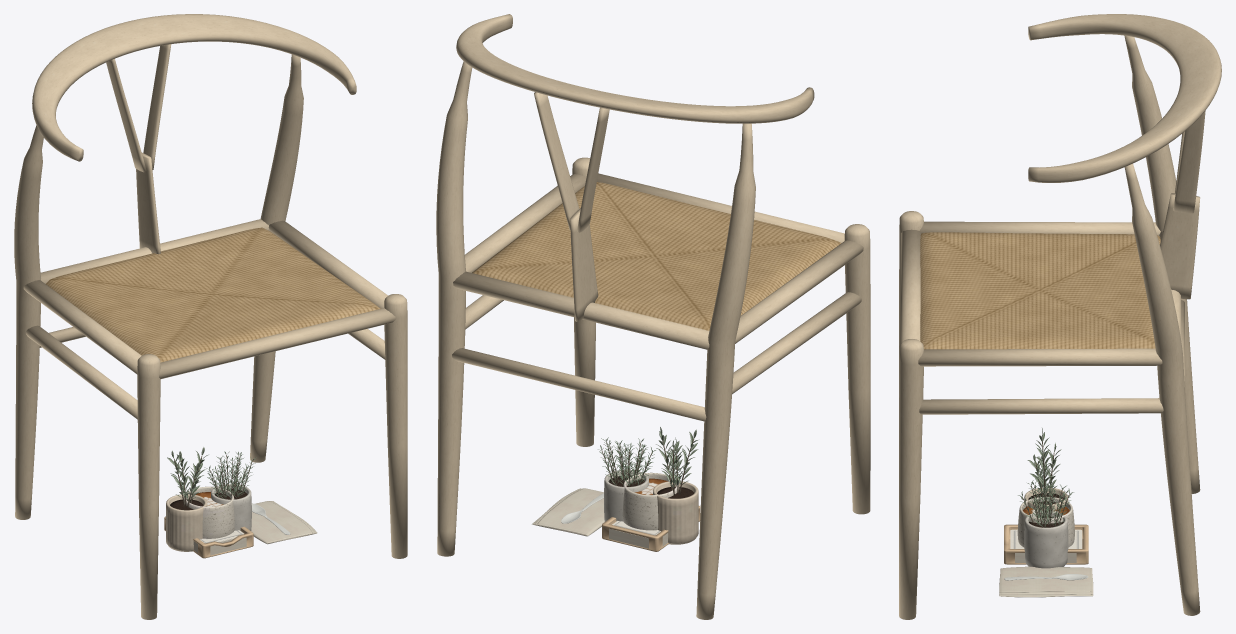
File: kitchen_props.glb
The picture shows the model from 3 angles, left to right: view 1: azimuth 30°, elevation 25°; view 2: azimuth 150°, elevation 25°; view 3: azimuth 270°, elevation 25°; orthographic projection. The views are drawn at different scales.
Visible parts, largest first — view 1: Chair_OakFrame, Chair_WovenSeat, Napkin_FoldedLinen, Planter_OlivePot, Mug_Bowl, Planter_RosemaryFoliage, Planter_OliveFoliage, Planter_RosemaryPot, CardStand_BeechFrame; view 2: Chair_OakFrame, Chair_WovenSeat, Napkin_FoldedLinen, Planter_OlivePot, Mug_Bowl, Planter_RosemaryFoliage, Planter_OliveFoliage, Planter_RosemaryPot, CardStand_BeechFrame; view 3: Chair_OakFrame, Chair_WovenSeat, Napkin_FoldedLinen, Planter_RosemaryPot, Planter_RosemaryFoliage, CardStand_BeechFrame, Planter_OliveFoliage, Mug_Bowl.
Part boxes in pixels (x1,y1,x2,y2): Chair_OakFrame: [14, 14, 407, 619]; Chair_WovenSeat: [46, 227, 380, 362]; Napkin_FoldedLinen: [251, 501, 317, 544]; Planter_OlivePot: [166, 494, 207, 551]; Mug_Bowl: [184, 486, 234, 538]; Planter_RosemaryFoliage: [204, 451, 256, 499]; Planter_OliveFoliage: [167, 447, 208, 507]; Planter_RosemaryPot: [211, 484, 251, 530]; CardStand_BeechFrame: [164, 516, 253, 558]; Chair_OakFrame: [436, 14, 870, 619]; Chair_WovenSeat: [472, 182, 841, 330]; Napkin_FoldedLinen: [532, 488, 604, 536]; Planter_OlivePot: [653, 481, 698, 544]; Mug_Bowl: [622, 472, 679, 530]; Planter_RosemaryFoliage: [598, 437, 655, 486]; Planter_OliveFoliage: [656, 427, 699, 495]; Planter_RosemaryPot: [604, 469, 649, 521]; CardStand_BeechFrame: [602, 506, 700, 551]; Chair_OakFrame: [899, 14, 1221, 619]; Chair_WovenSeat: [920, 232, 1160, 349]; Napkin_FoldedLinen: [999, 566, 1093, 597]; Planter_RosemaryPot: [1024, 511, 1068, 568]; Planter_RosemaryFoliage: [1018, 480, 1073, 527]; CardStand_BeechFrame: [1004, 524, 1088, 564]; Planter_OliveFoliage: [1027, 428, 1061, 501]; Mug_Bowl: [1017, 497, 1074, 547].
Bounding box in the file's own units: 39.32 × 58.1 × 35.03.
Materials: 18 (18 with a texture image).
